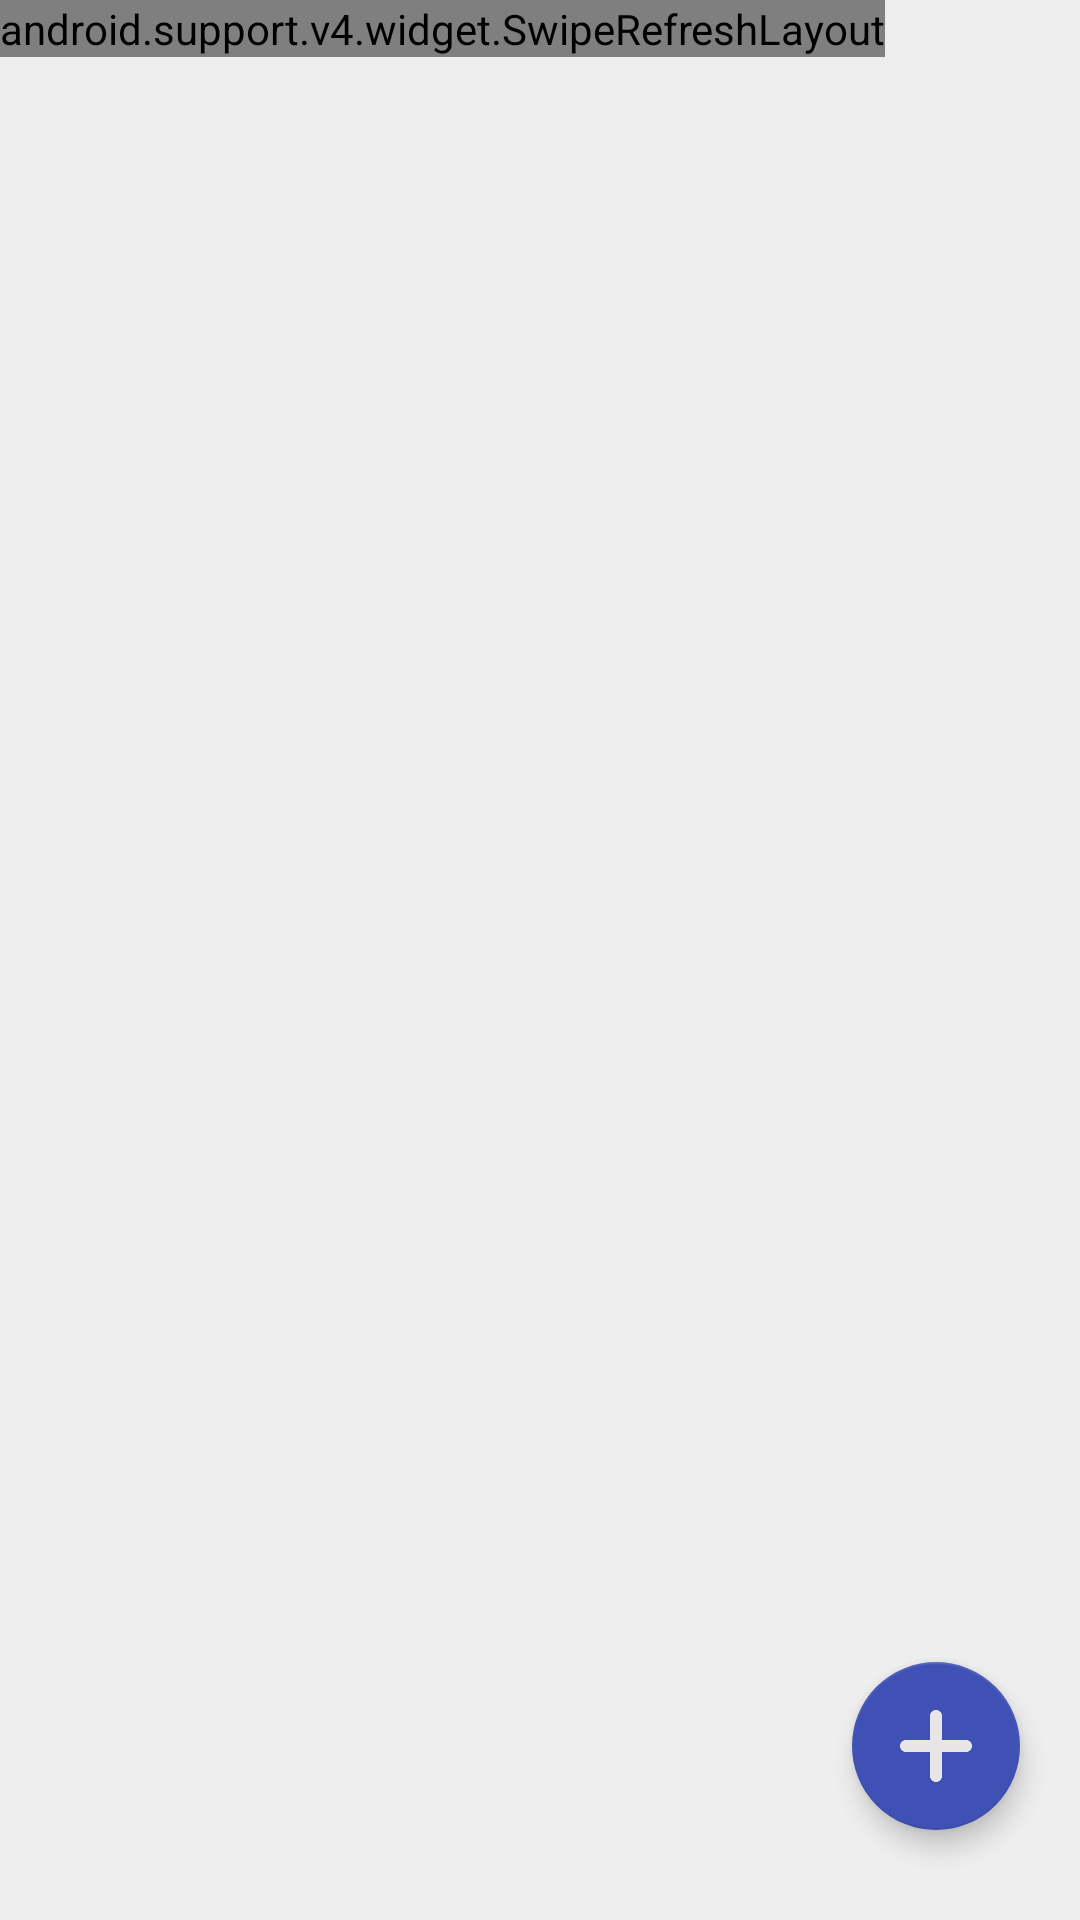

Where icons sit on this 1080*1920 app screen, as (x1, y1, x2, y2):
add: (852, 1662, 1020, 1830)
